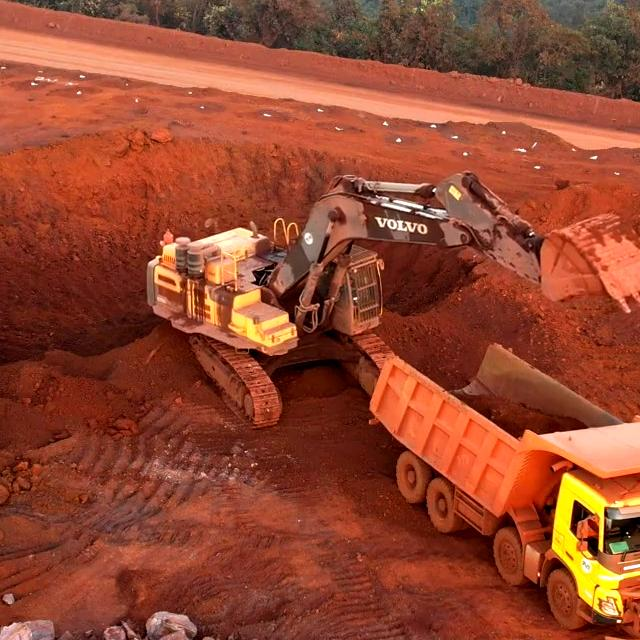Dumper truck: (489, 420, 640, 608)
Excavator: (168, 227, 367, 354)
